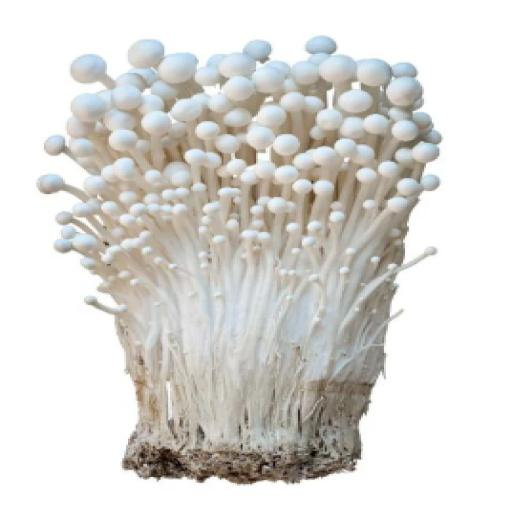Enoki Mushroom: (31, 31, 452, 485)
